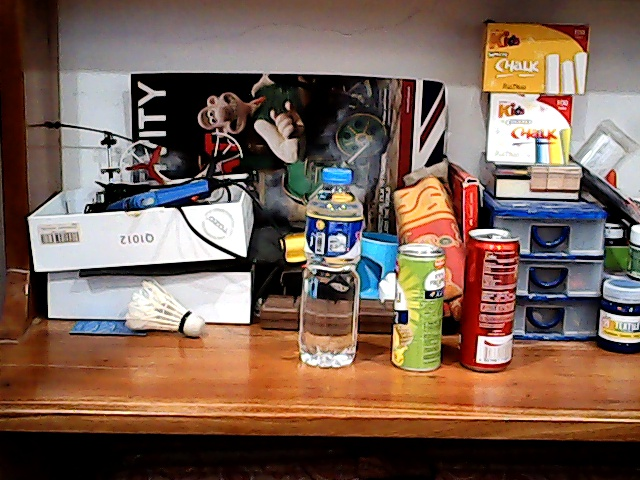Cola: (452, 223, 523, 374)
Pine Juice: (383, 237, 456, 372)
Summit Water: (300, 156, 368, 353)
